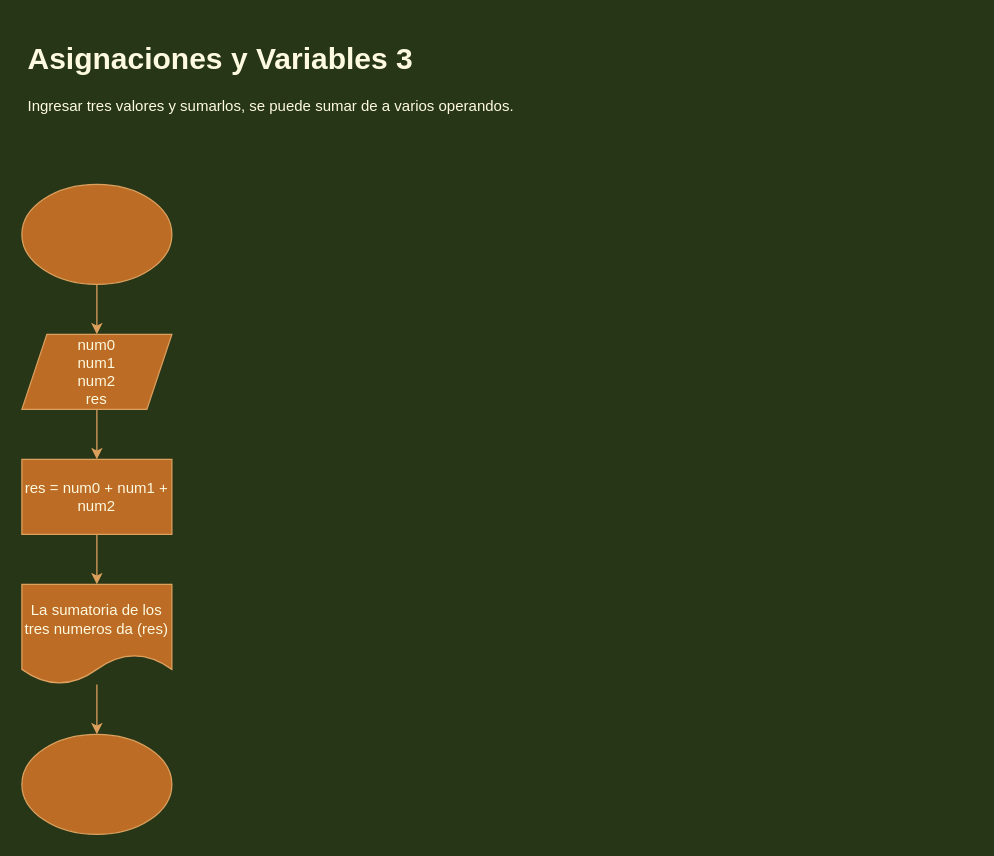
Some shapes in this 994 by 856 pixel diagram are drawn without their labels. The shapes that lost their labels are listed below. From the top down, each one's box as (x1, y1, x2, y2) in pixels, then its label:
(21, 183, 172, 284): inicio
(21, 733, 172, 834): fin
